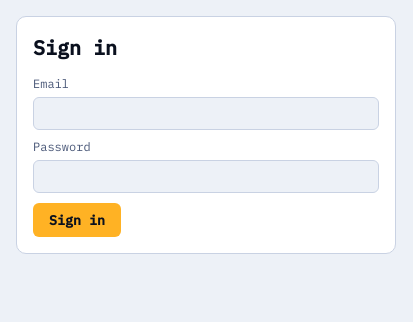
shows login and an error message on bad credentials
In the field named "Email": (206, 114) [33, 97, 379, 130], type "a@b.c"
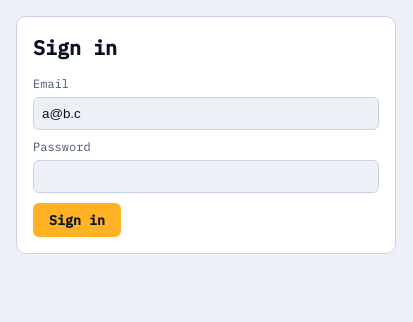
In the password field named "Password": (206, 176) [33, 160, 379, 193], type "x"
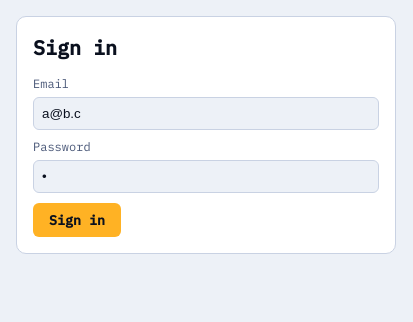
Click the button "Sign in": (77, 220) [33, 203, 121, 237]
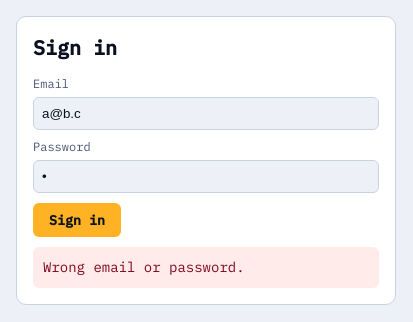
Check: the text "Wrong email or password." is shown, box [33, 247, 379, 288]
